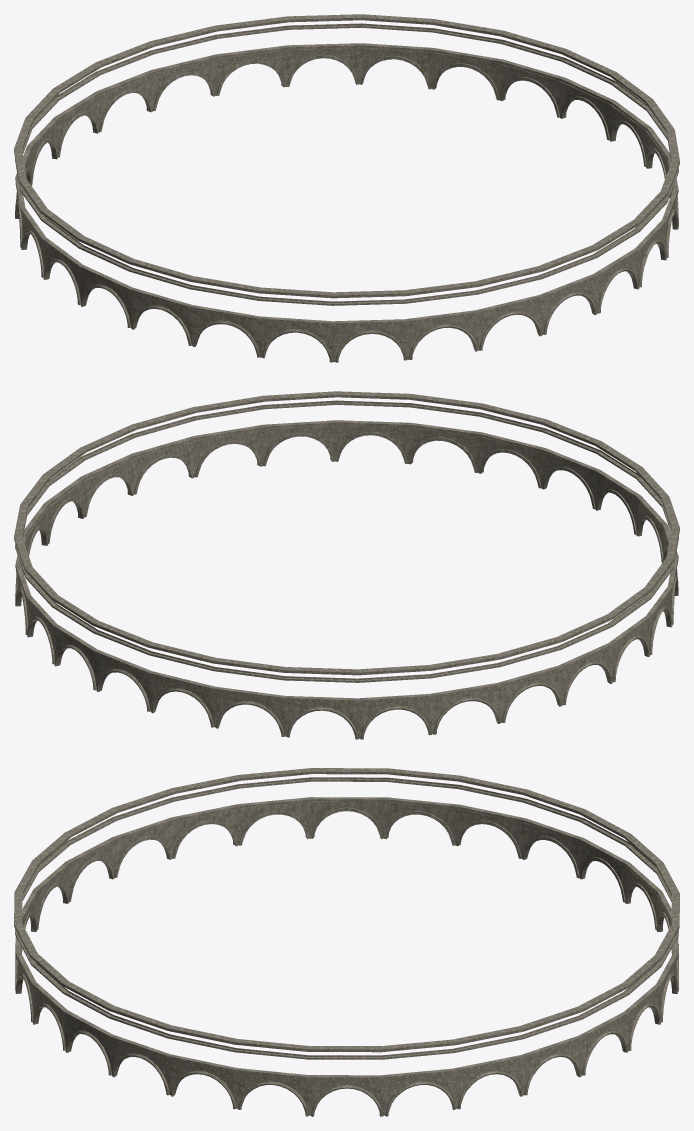
The model's file is Greenhouse_Body05.FBX.
3 renders of one model, top to bottom at view 1: azimuth 30°, elevation 25°; view 2: azimuth 150°, elevation 25°; view 3: azimuth 270°, elevation 25°, orthographic.
Parts seen in each view (by area): view 1: Greenhouse_Body05; view 2: Greenhouse_Body05; view 3: Greenhouse_Body05.
Boxes of the visible parts, x1=… form: Greenhouse_Body05: x1=14, y1=14, x2=679, y2=362; Greenhouse_Body05: x1=14, y1=391, x2=679, y2=739; Greenhouse_Body05: x1=14, y1=768, x2=679, y2=1116.
Size of the model in its own units: 8457 by 953 by 8456.
